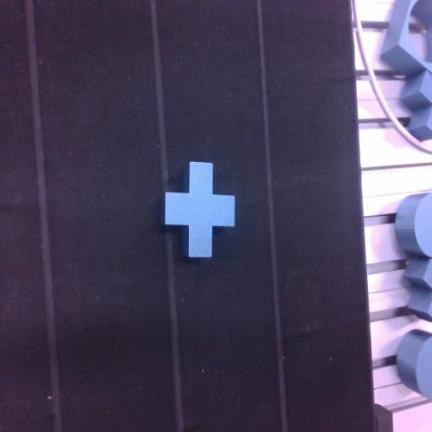cross: (165, 162, 234, 257)
